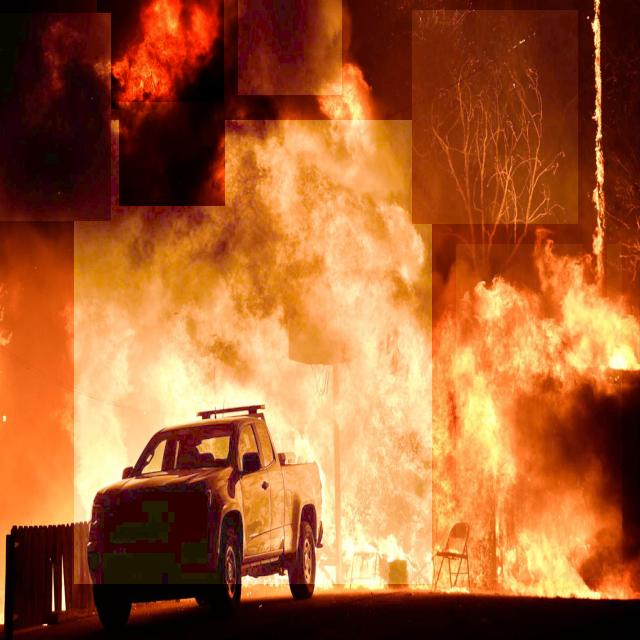Fire: (74, 120, 432, 584), (456, 244, 622, 580), (97, 0, 224, 109), (583, 0, 607, 298)
Smoke: (412, 10, 578, 224), (0, 13, 111, 221), (119, 102, 225, 206), (238, 0, 342, 95)
